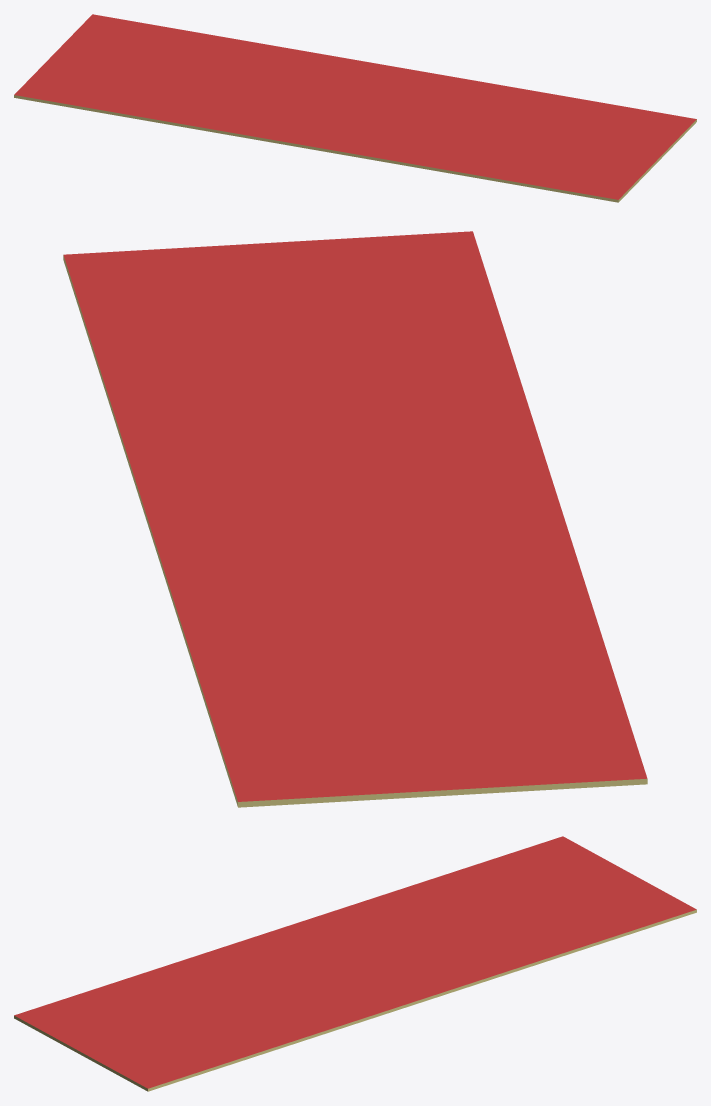
3 views of the same model, one above another, from view 1: azimuth 30°, elevation 25°; view 2: azimuth 150°, elevation 25°; view 3: azimuth 270°, elevation 25° (orthographic). The views are drawn at different scales.
Size of the model in its own units: 18.1 by 20.69 by 0.1.
